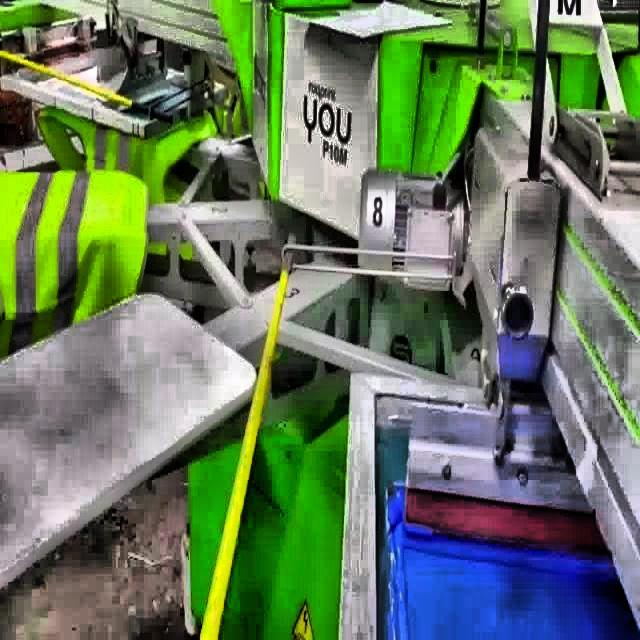safety_jacket: (0, 171, 150, 362)
